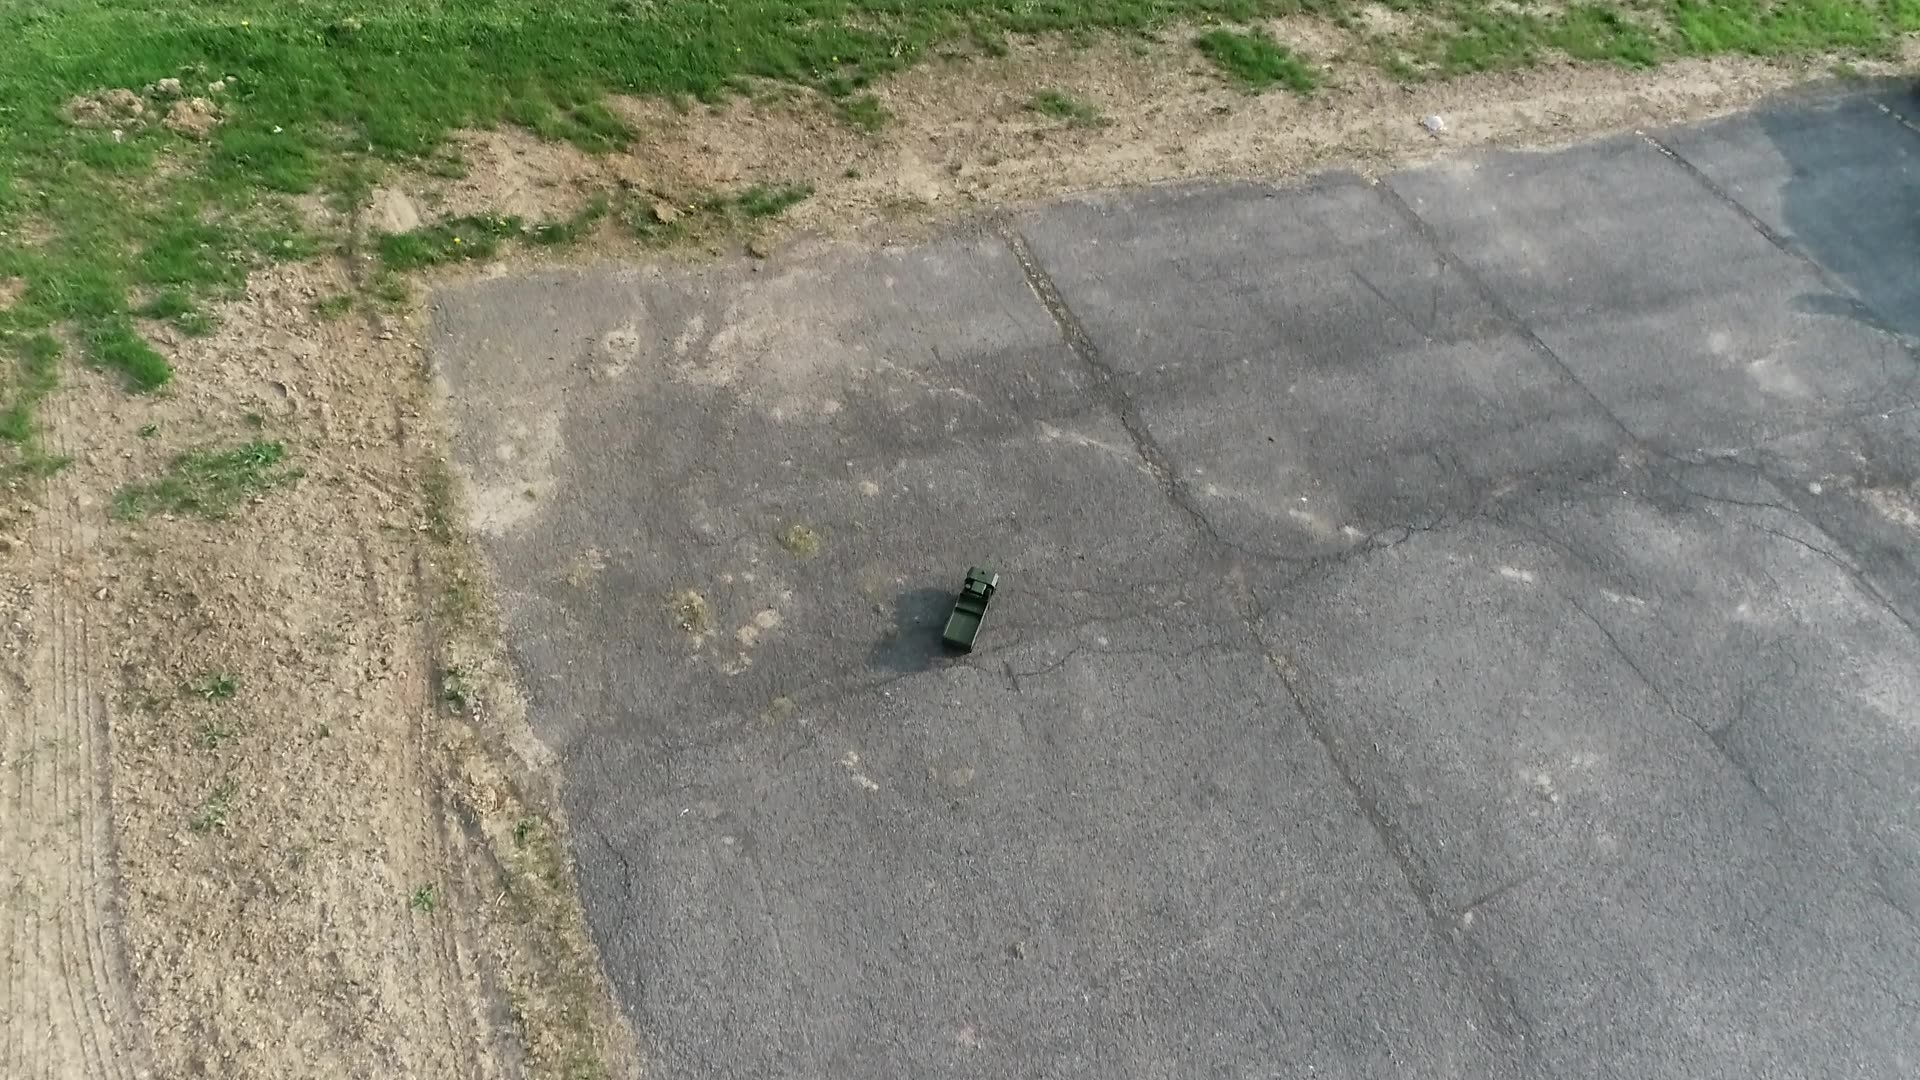transporter9: (931, 562, 1004, 654)
